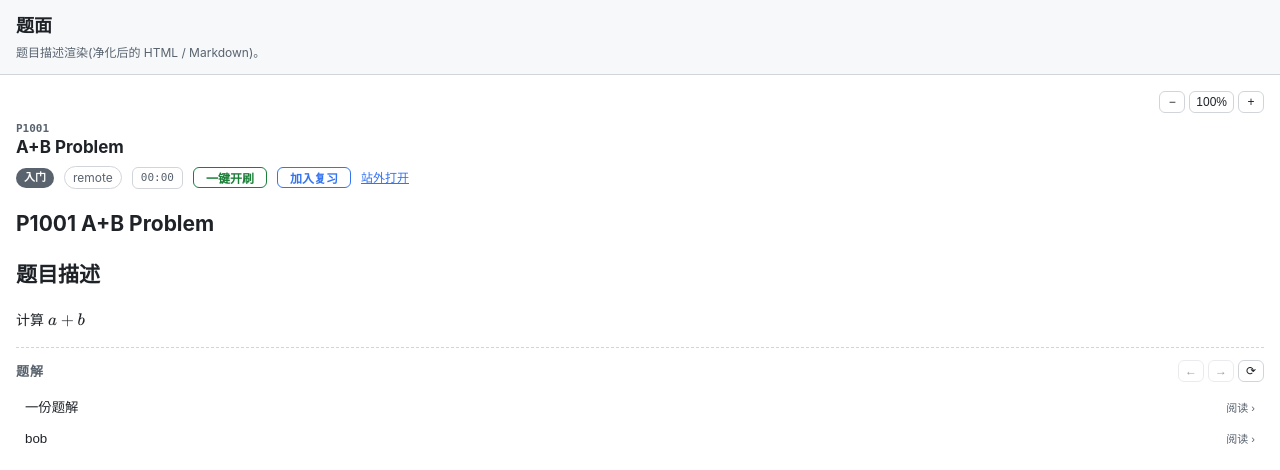
Test case: problem-view solution reader (WP31) › refresh from list root reloads the solutions list
Expected: the number of list items with class "solutions__item" is 2, 16,390 -> 1264,423; 16,423 -> 1264,453
Click the button with class "solutions__nav-btn" showing "⟳": (1251, 371) 1238,360 -> 1264,382
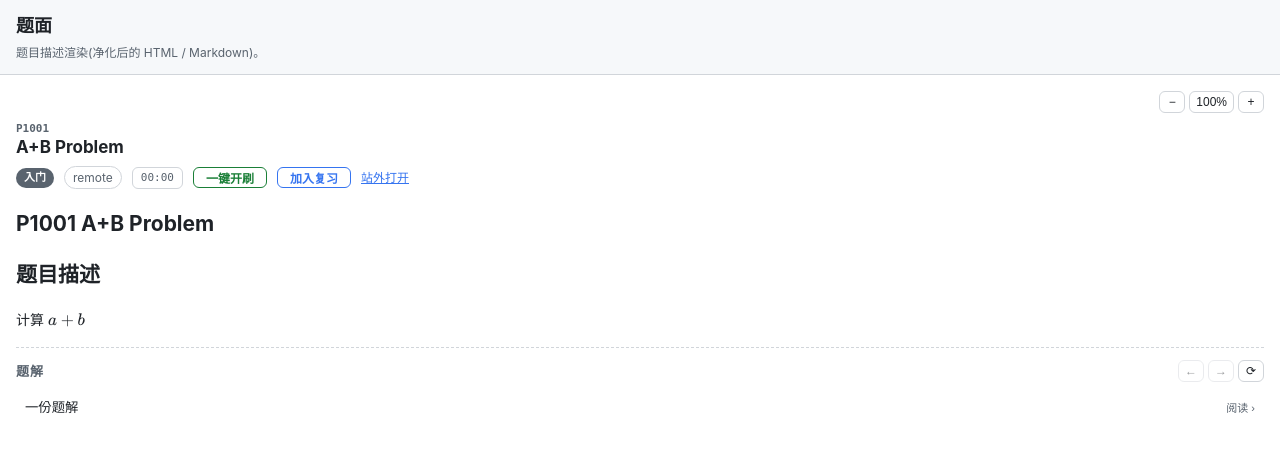
Expected: the number of list items with class "solutions__item" is 1, 16,390 -> 1264,423
